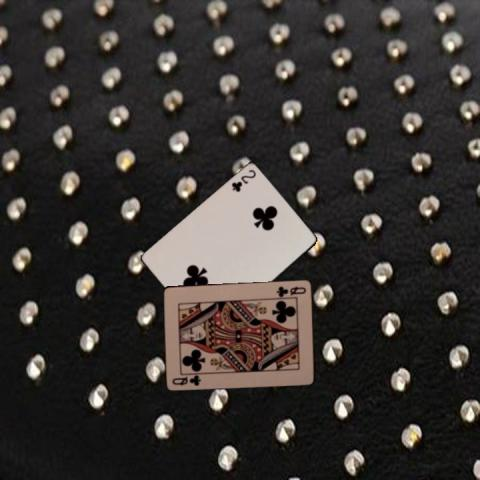2c: (229, 167, 257, 193)
Qc: (169, 372, 203, 387), (274, 284, 308, 298)
